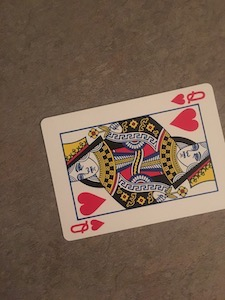QueenOfHearts: (34, 81, 224, 243)
